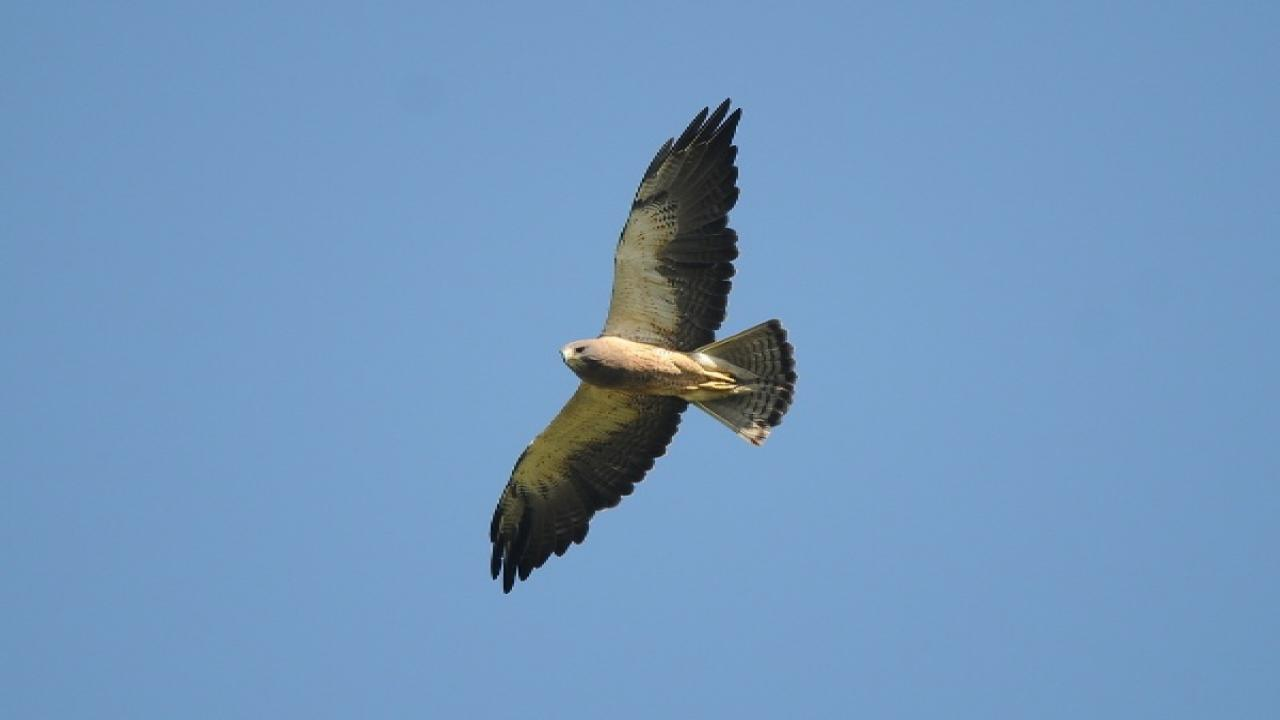Bird: (473, 91, 818, 599)
